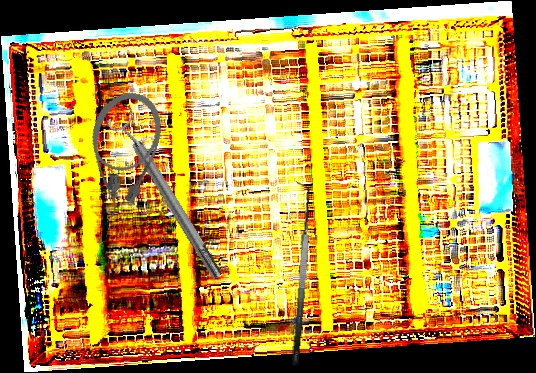Cannula: (70, 84, 171, 224)
Fixation Ring: (105, 105, 230, 286)
Spatula Surgical: (275, 181, 319, 367)
